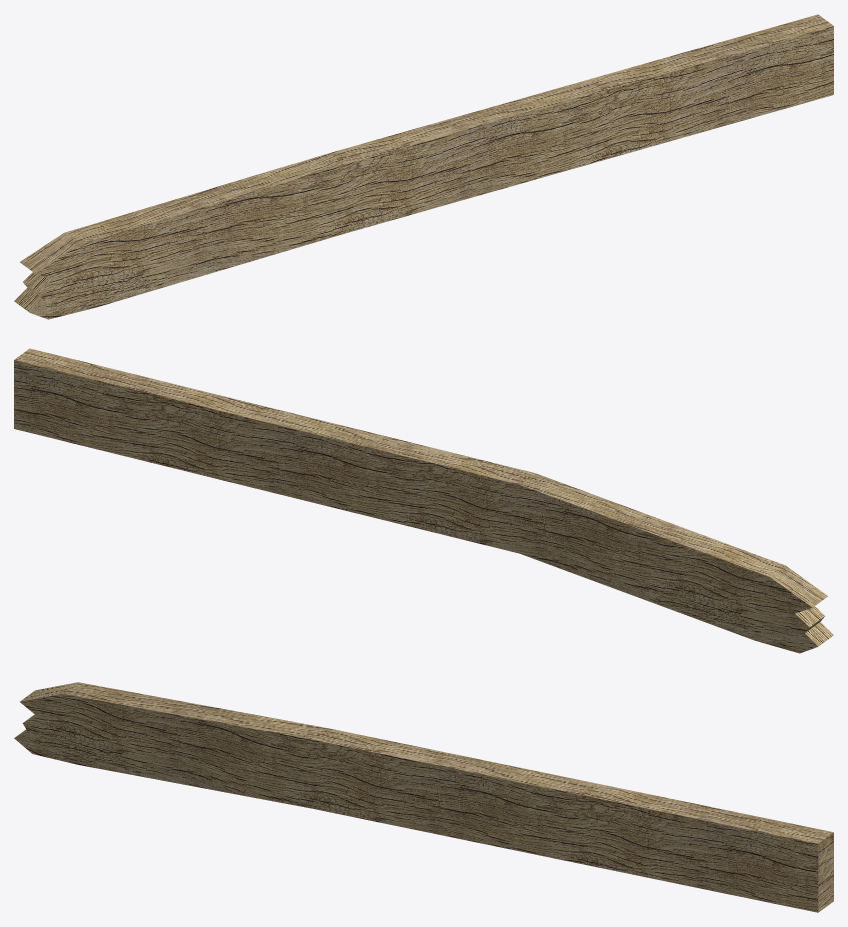
Rendered from woodenPlank06.FBX.
3 renders of one model, top to bottom at view 1: azimuth 30°, elevation 25°; view 2: azimuth 150°, elevation 25°; view 3: azimuth 330°, elevation 25°, orthographic.
Visible parts, largest first — view 1: wooden_fence_plank_small1; view 2: wooden_fence_plank_small1; view 3: wooden_fence_plank_small1.
Part boxes in pixels (box(x1,y1,x2,y2)): wooden_fence_plank_small1: box(14, 14, 833, 319); wooden_fence_plank_small1: box(14, 348, 833, 653); wooden_fence_plank_small1: box(14, 682, 833, 912).
Size of the model in its own units: 256 by 30.93 by 13.75.
